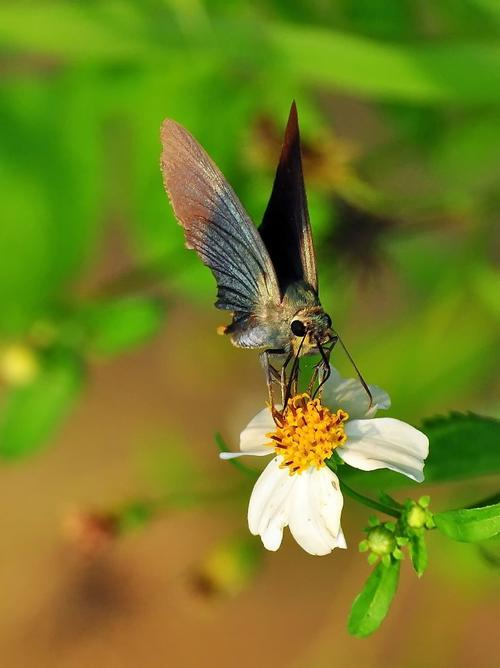Hesperiidae: (152, 104, 383, 415)
